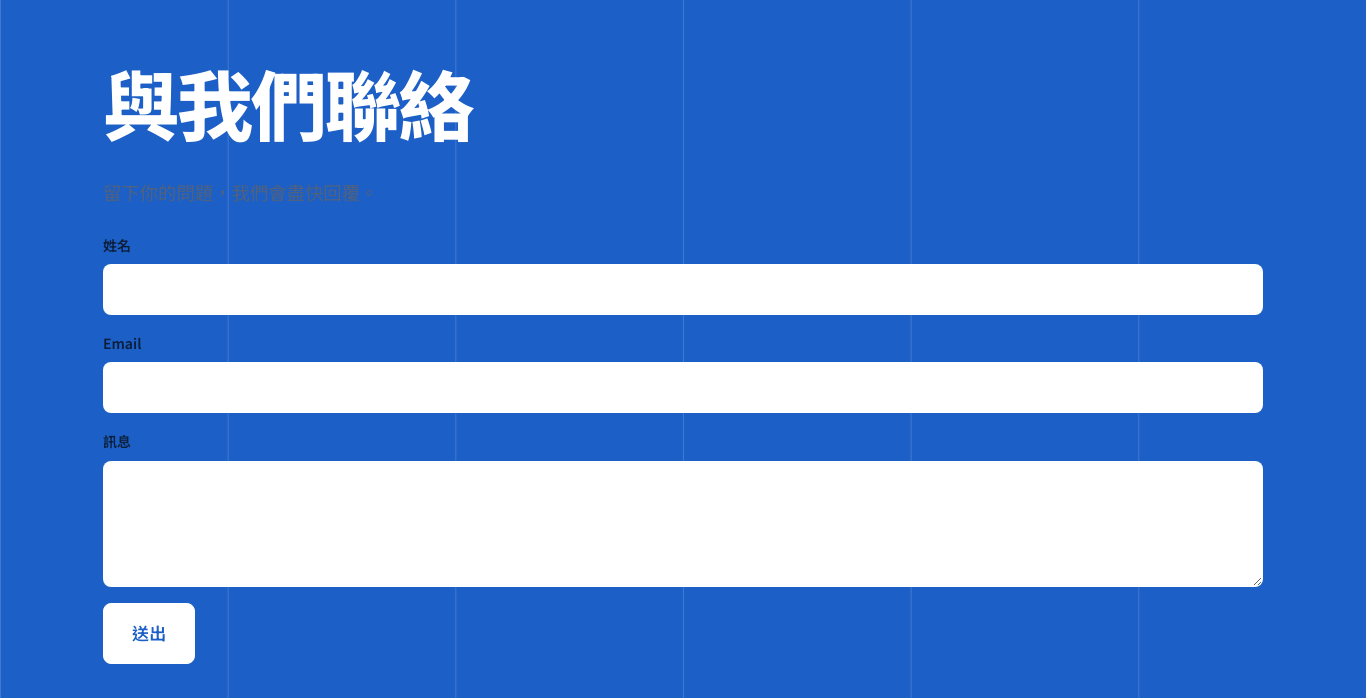
site form › never sends from the editor preview
The image size is (1366, 698).
Type "小明" into the field labelled "姓名" at (683, 290), box top-left (103, 264), bottom-right (1263, 315)
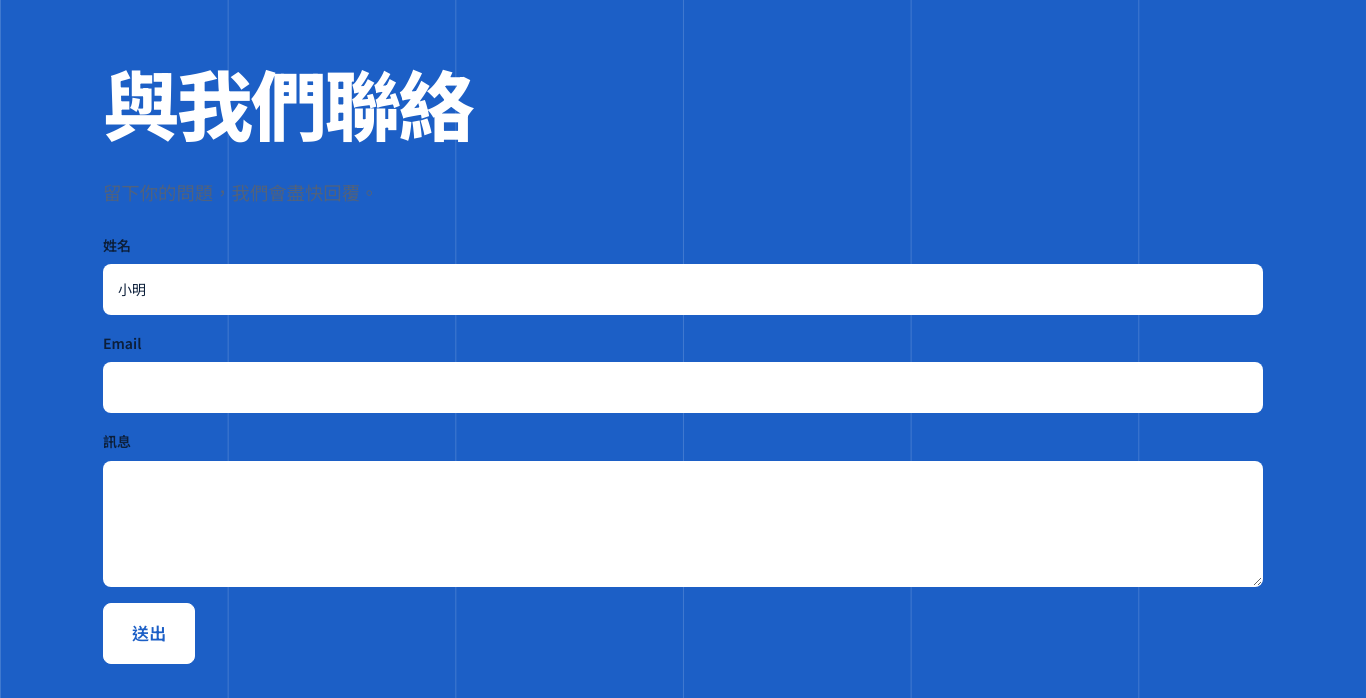
Type "a@b.co" into the field labelled "Email" at (683, 388), box top-left (103, 362), bottom-right (1263, 414)
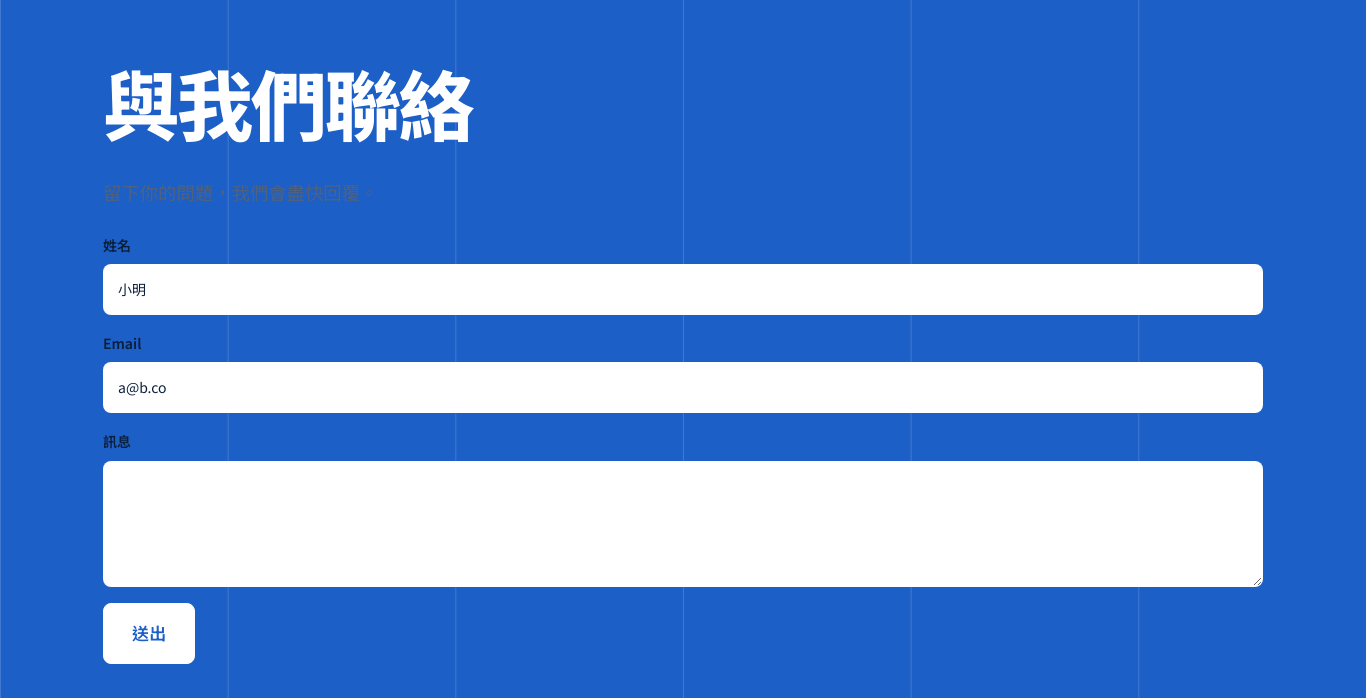
Type "你好" into the text box labelled "訊息" at (683, 524), box top-left (103, 461), bottom-right (1263, 588)
(page scrolled)
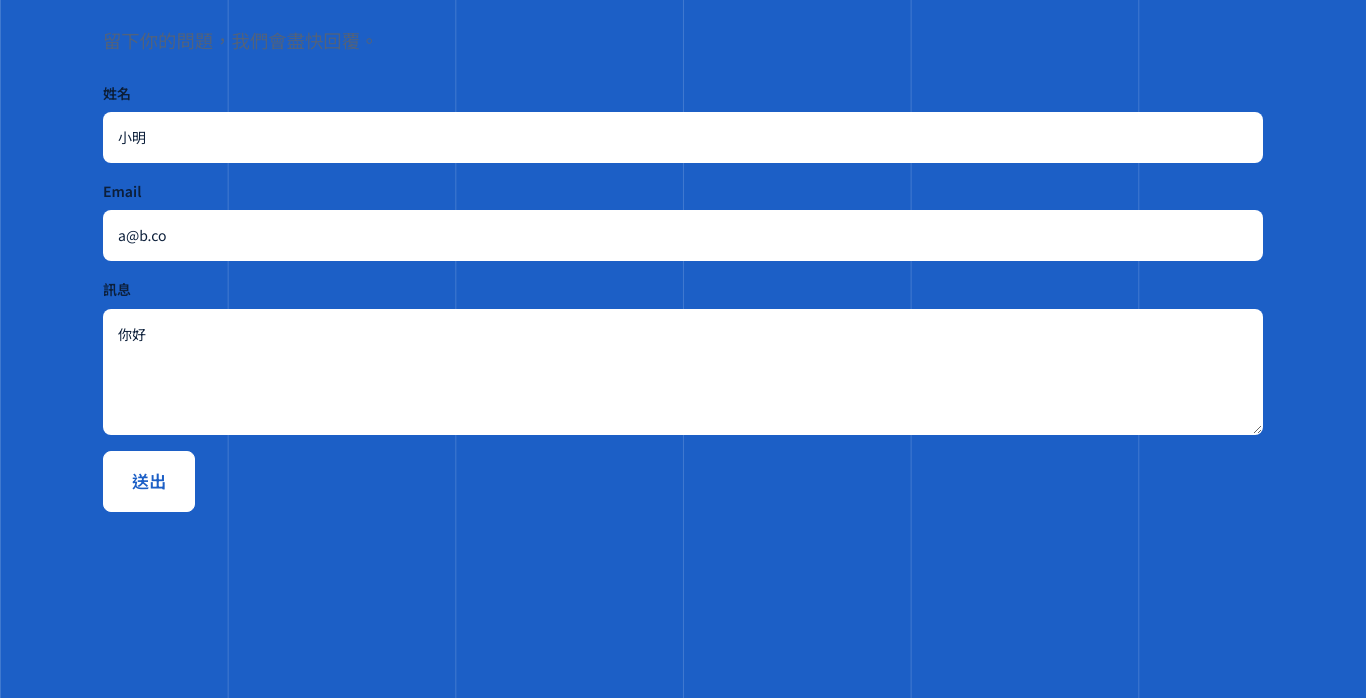
Submit the form "送出", box top-left (103, 81), bottom-right (1263, 549)
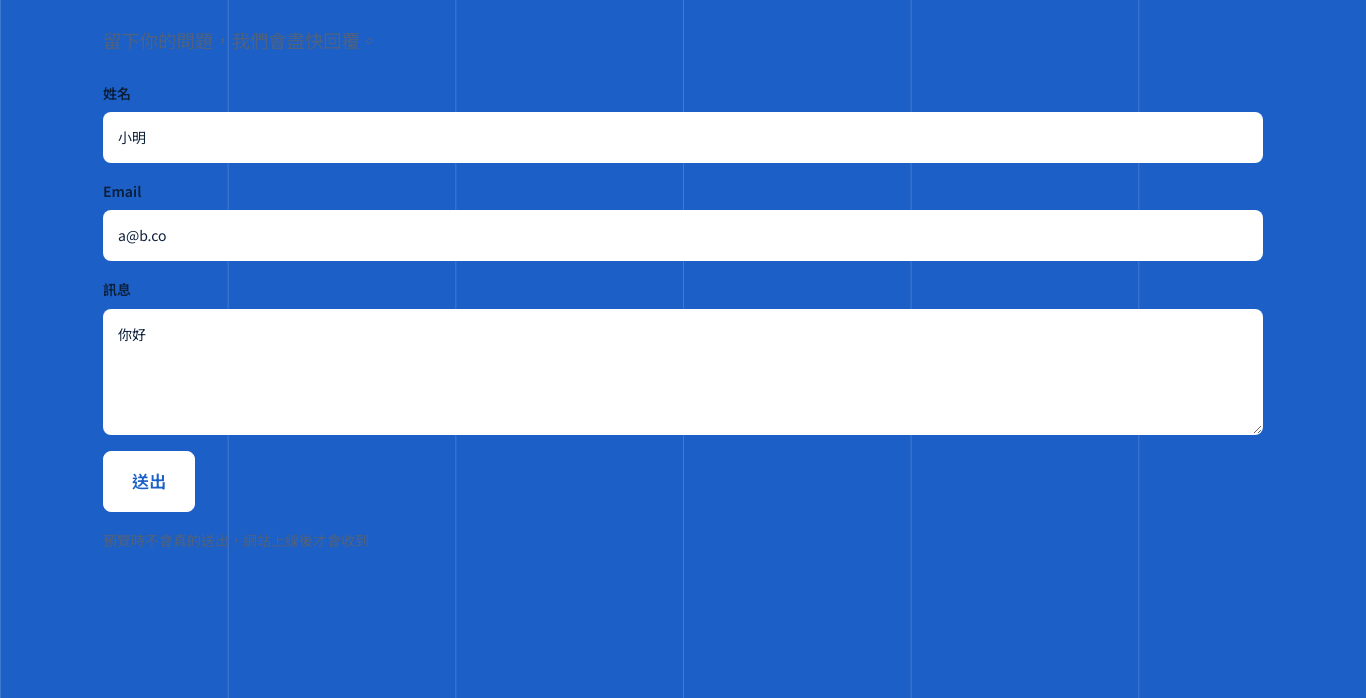
Expected: the text "預覽時不會真的送出，網站上線後才會收到" is shown, top-left (103, 530), bottom-right (369, 550)
